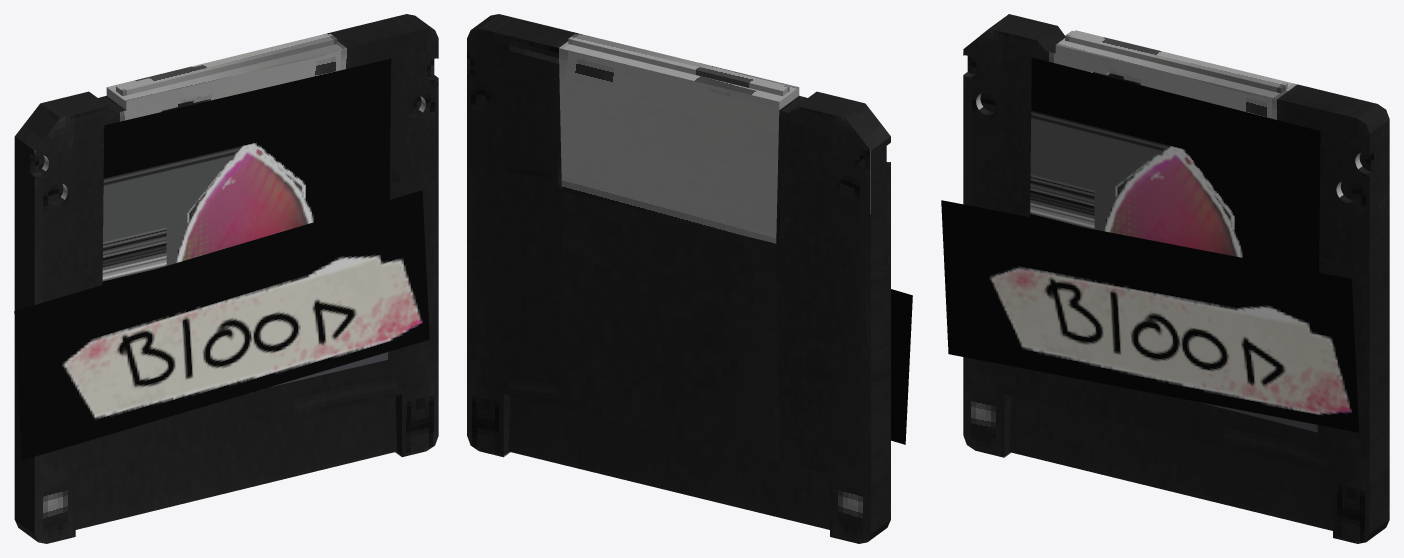
File: D_4glb.glb
The picture shows the model from 3 angles, left to right: view 1: azimuth 30°, elevation 25°; view 2: azimuth 150°, elevation 25°; view 3: azimuth 330°, elevation 25°; orthographic projection.
Visible parts, largest first — view 1: Cube.004, Plane.012, Plane.009; view 2: Cube.004, Plane.012; view 3: Cube.004, Plane.012, Plane.009.
Part boxes in pixels (x1=…): Cube.004: x1=14, y1=14, x2=438, y2=543; Plane.012: x1=14, y1=190, x2=429, y2=460; Plane.009: x1=102, y1=58, x2=391, y2=386; Cube.004: x1=467, y1=14, x2=890, y2=543; Plane.012: x1=891, y1=289, x2=912, y2=444; Cube.004: x1=963, y1=14, x2=1389, y2=543; Plane.012: x1=941, y1=200, x2=1359, y2=432; Plane.009: x1=1030, y1=57, x2=1320, y2=432.
Size of the model in its own units: 2.99 by 2.87 by 0.2524.
3 materials, 3 textured.
